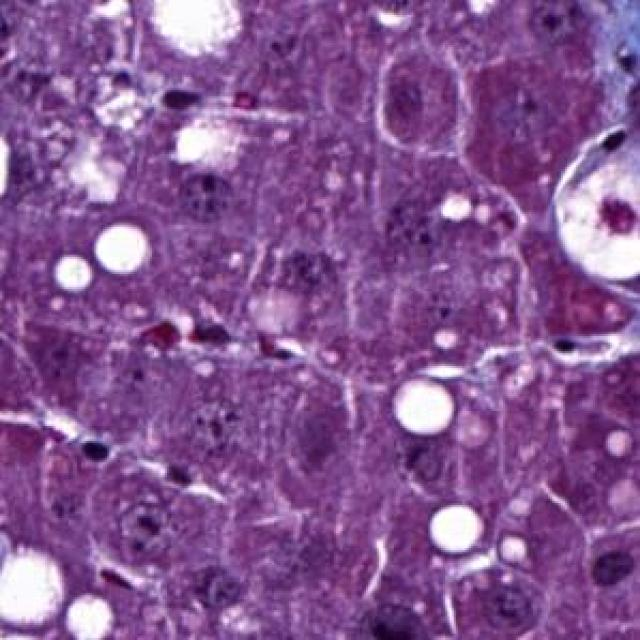ballooning: (546, 122, 634, 291)
